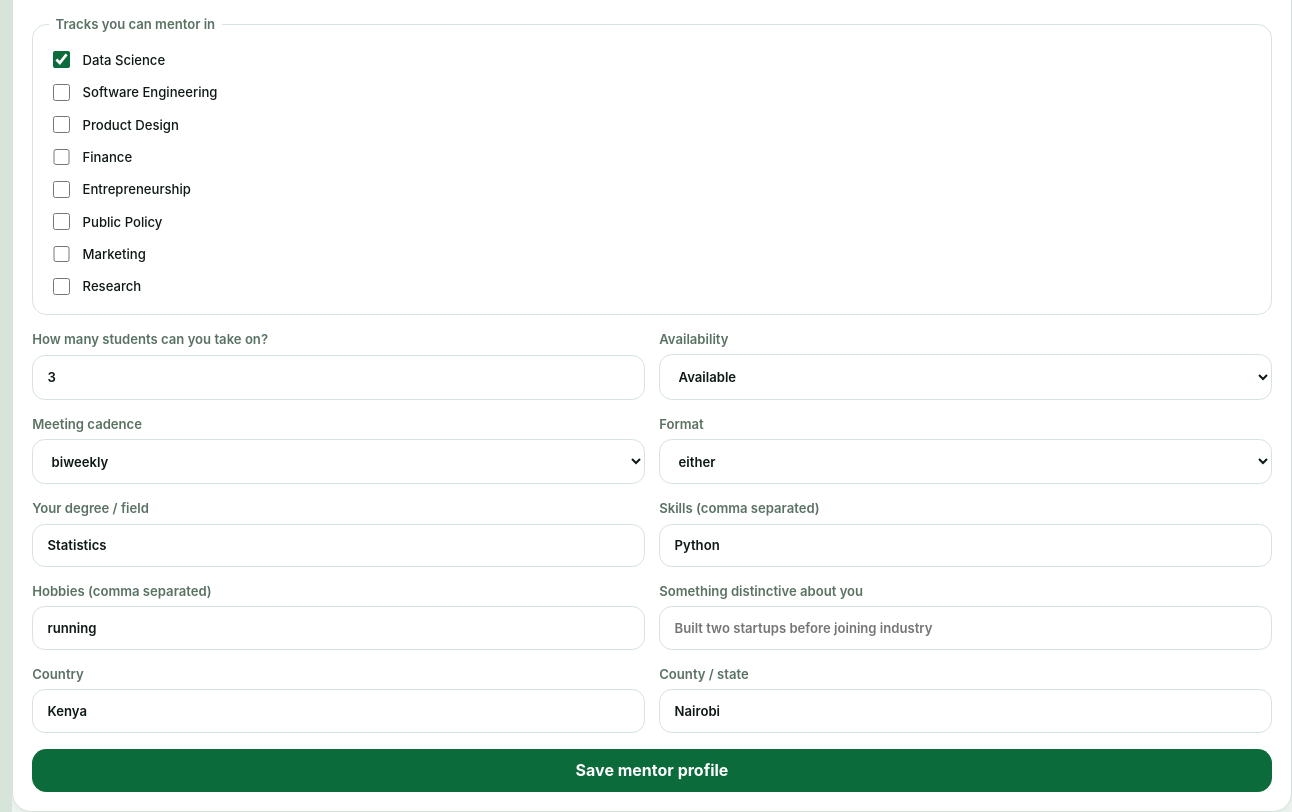
Test case: editable profiles › lets a mentor edit their whole mentor profile, including matching details
(page scrolled)
In the field showing "running": (338, 628) [32,606,645,650], type ", photography"
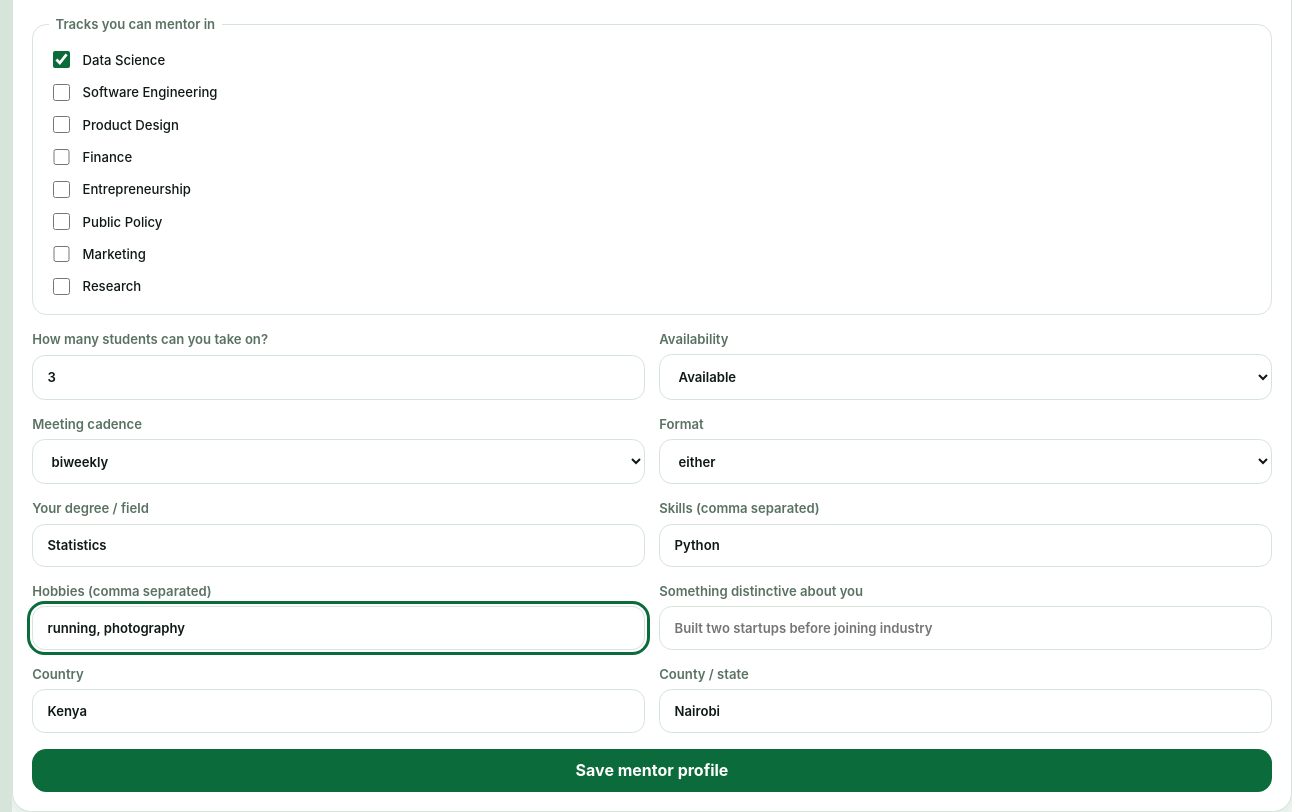
Click the button "Save mentor profile": click(652, 770) [32,749,1272,792]
(page scrolled)
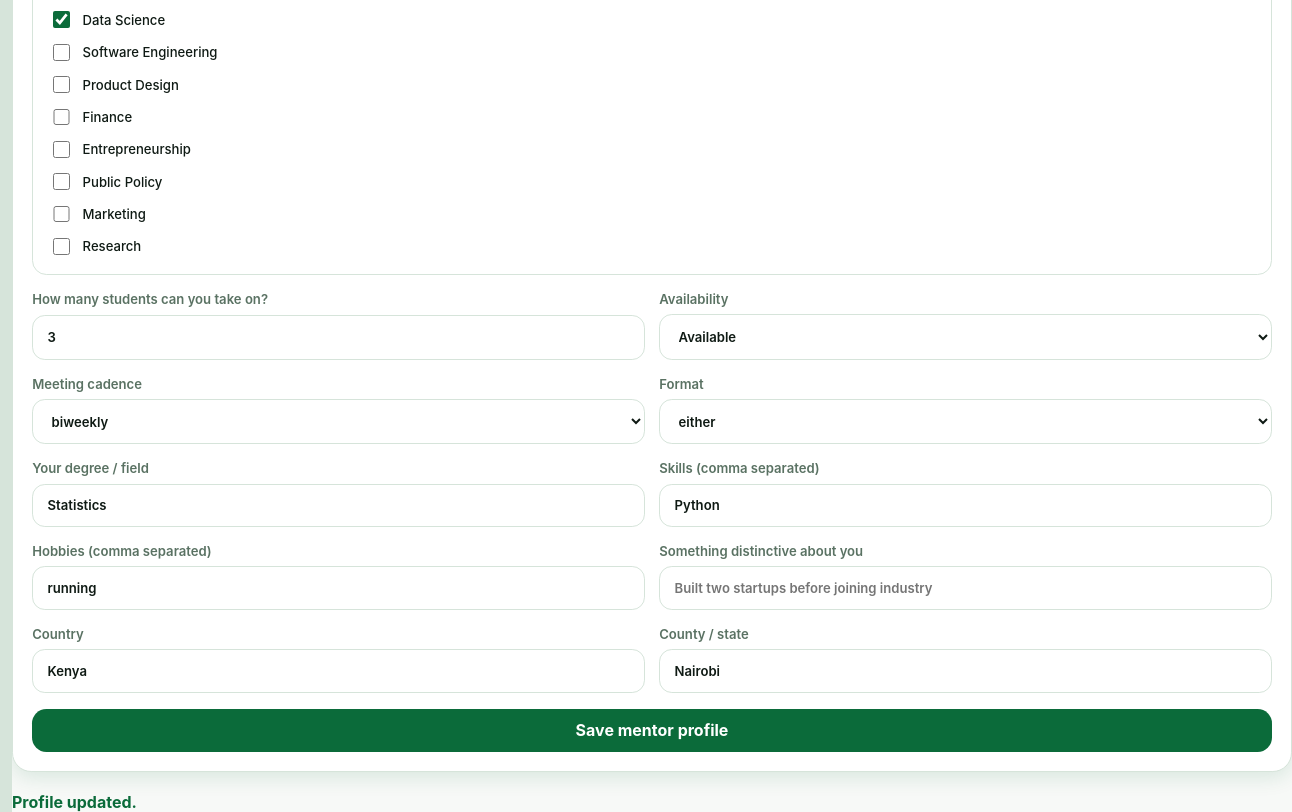
Expected: the text "Profile updated." is shown, [12,792,137,811]
